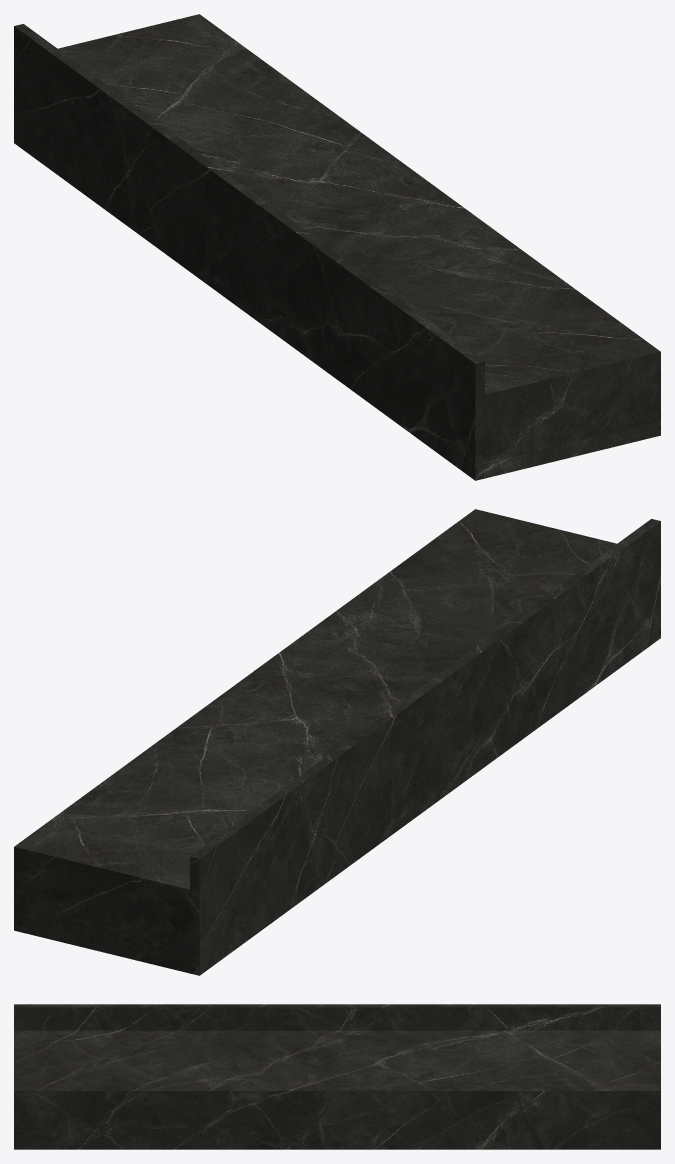
The model's file is Stone_Sink_Stand.fbx.
The picture shows the model from 3 angles, top to bottom: view 1: azimuth 30°, elevation 25°; view 2: azimuth 150°, elevation 25°; view 3: azimuth 270°, elevation 25°; orthographic projection. The views are drawn at different scales.
Parts seen in each view (by area): view 1: Cube; view 2: Cube; view 3: Cube.
Boxes of the visible parts, x1,y1,x2,y2 form: Cube: (14,14,660,480); Cube: (14,509,660,975); Cube: (14,1004,660,1149).
Size of the model in its own units: 69.62 by 41.96 by 300.
1 material, 1 textured.
